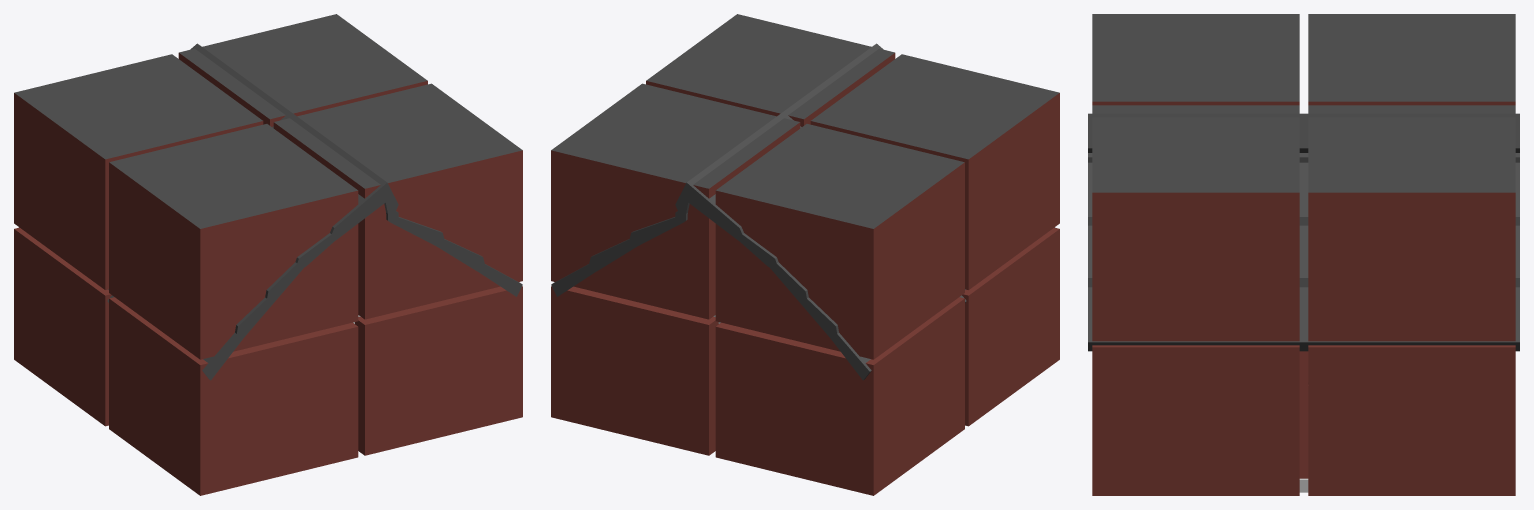
File: SmallBarn_destructible.gltf
The picture shows the model from 3 angles, left to right: view 1: azimuth 30°, elevation 25°; view 2: azimuth 150°, elevation 25°; view 3: azimuth 270°, elevation 25°; orthographic projection. The views are drawn at different scales.
Visible parts, largest first — view 1: block_f1_r1_c0, block_f1_r1_c1, block_f0_r1_c0, block_f1_r0_c0, block_f0_r1_c1, block_f1_r0_c1, block_f0_r0_c0; view 2: block_f1_r0_c0, block_f1_r0_c1, block_f0_r0_c0, block_f1_r1_c0, block_f0_r0_c1, block_f1_r1_c1, block_f0_r1_c0; view 3: block_f1_r0_c1, block_f1_r1_c1, block_f0_r0_c1, block_f0_r1_c1, block_f1_r0_c0, block_f1_r1_c0.
Boxes of the visible parts, x1,y1,x2,y2 form: block_f1_r1_c0: (109,124,363,360); block_f1_r1_c1: (273,83,522,319); block_f0_r1_c0: (109,297,358,495); block_f1_r0_c0: (14,54,263,289); block_f0_r1_c1: (353,286,522,455); block_f1_r0_c1: (178,14,427,127); block_f0_r0_c0: (14,227,113,426); block_f1_r0_c0: (710,124,964,360); block_f1_r0_c1: (551,83,800,319); block_f0_r0_c0: (715,297,964,495); block_f1_r1_c0: (810,54,1059,289); block_f0_r0_c1: (551,286,720,455); block_f1_r1_c1: (646,14,895,127); block_f0_r1_c0: (960,227,1059,426); block_f1_r0_c1: (1304,105,1519,342); block_f1_r1_c1: (1088,105,1303,342); block_f0_r0_c1: (1304,343,1519,495); block_f0_r1_c1: (1088,343,1303,495); block_f1_r0_c0: (1308,14,1515,105); block_f1_r1_c0: (1092,14,1299,105).
Size of the model in its own units: 8.33 by 6.72 by 8.5.
